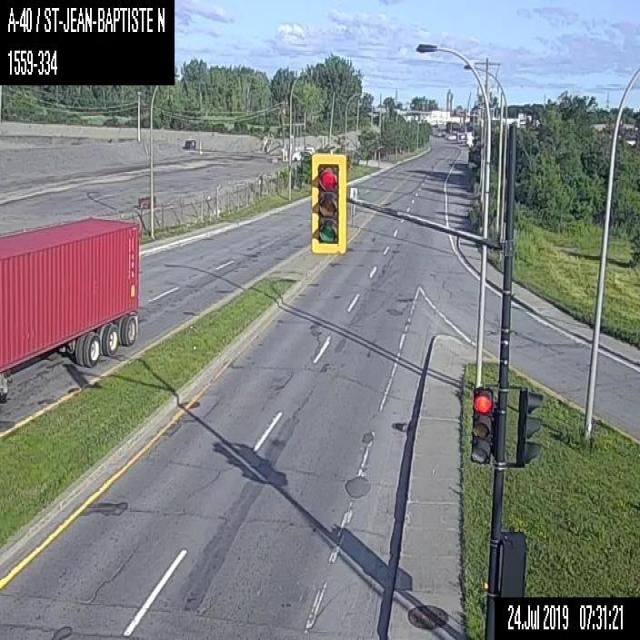vehicle: (0, 214, 139, 402)
